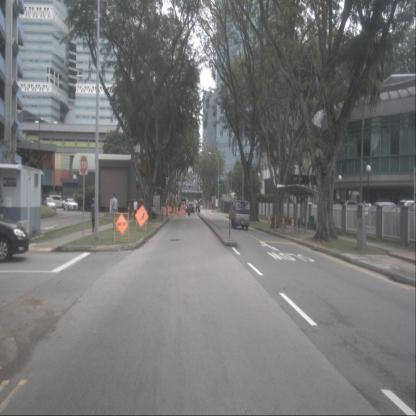human-pedestrian-adult: (90, 198, 98, 232), (111, 192, 118, 230), (133, 198, 138, 220), (132, 197, 136, 217), (128, 201, 132, 220), (152, 204, 156, 220), (195, 204, 198, 214), (198, 203, 200, 214)
vehicle-car: (0, 218, 30, 264), (49, 195, 67, 209), (44, 196, 57, 212), (63, 198, 79, 211), (187, 203, 194, 214), (178, 203, 183, 211), (181, 201, 185, 210)
vehicle-truck: (230, 200, 250, 230)
